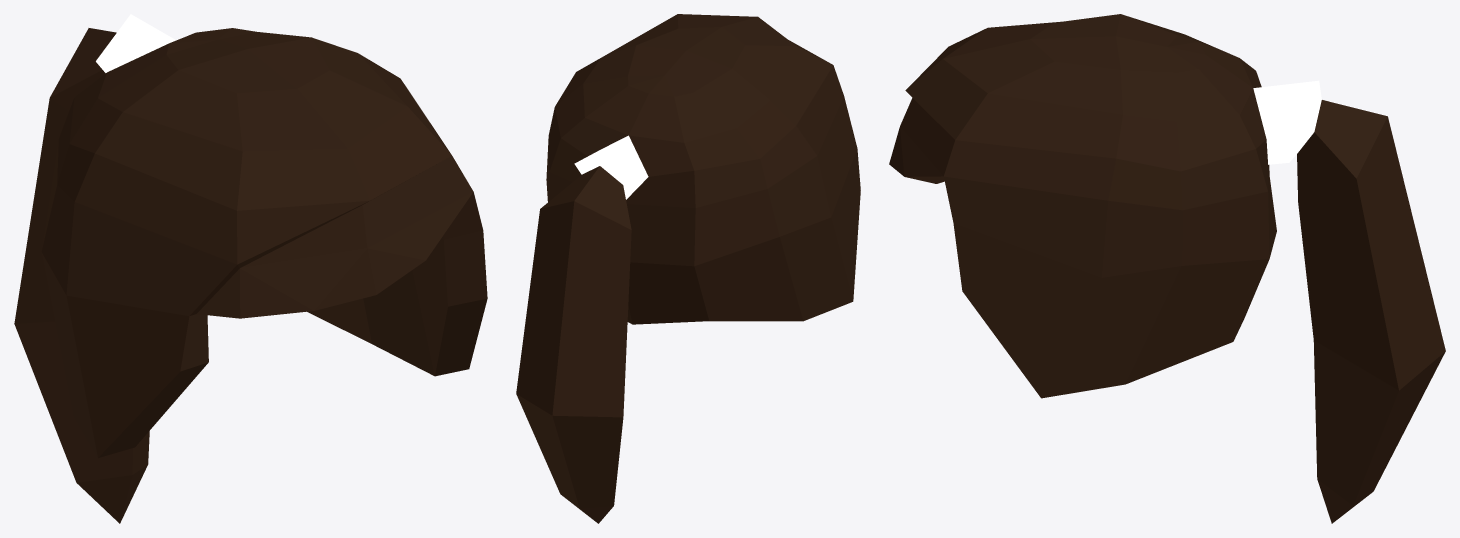
The model's file is female_hairstyle_4.glb.
The picture shows the model from 3 angles, left to right: view 1: azimuth 30°, elevation 25°; view 2: azimuth 150°, elevation 25°; view 3: azimuth 270°, elevation 25°; orthographic projection. The views are drawn at different scales.
Visible parts, largest first — view 1: Female_Hairstyle_4; view 2: Female_Hairstyle_4; view 3: Female_Hairstyle_4.
Part boxes in pixels (x1,y1,x2,y2): Female_Hairstyle_4: (14,14,487,523); Female_Hairstyle_4: (516,14,860,523); Female_Hairstyle_4: (889,14,1445,523).
Bounding box in the file's own units: 1.27 × 1.85 × 1.91.
